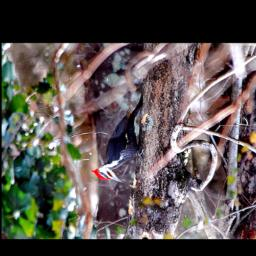Woodpecker: (88, 91, 144, 183)
